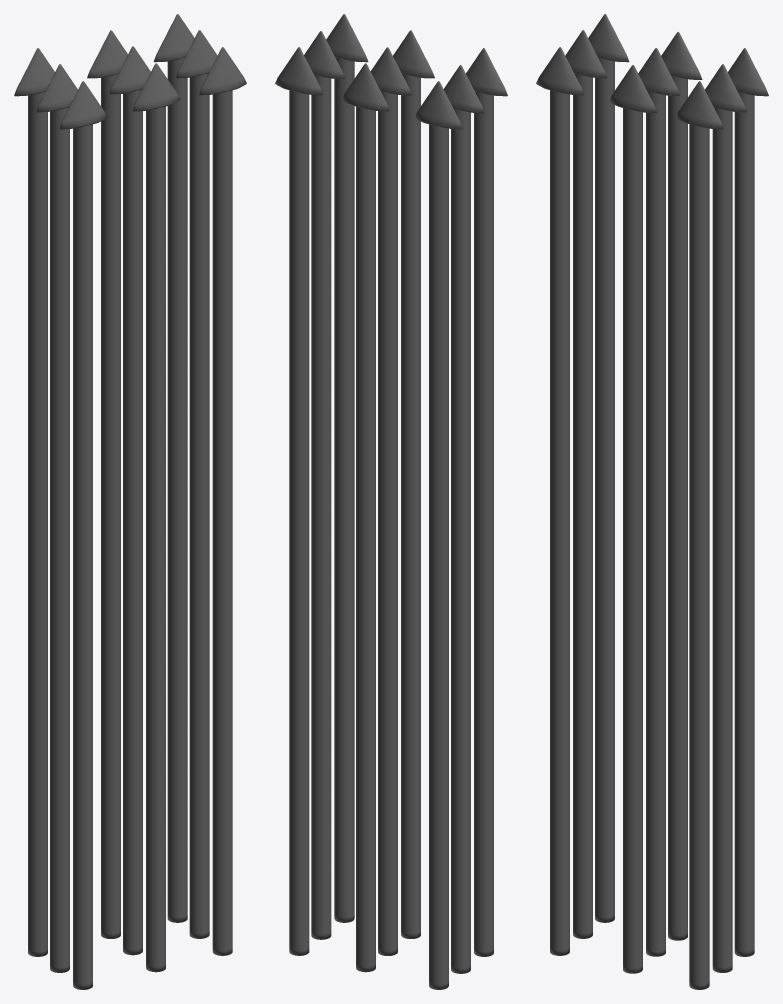
Rendered from floor spikes.fbx.
3 views of the same model, side by side, from view 1: azimuth 30°, elevation 25°; view 2: azimuth 150°, elevation 25°; view 3: azimuth 330°, elevation 25° (orthographic).
Visible parts, largest first — view 1: Floor Spike; view 2: Floor Spike; view 3: Floor Spike.
Boxes of the visible parts, bbox=[...] form: Floor Spike: bbox=[14, 14, 246, 989]; Floor Spike: bbox=[275, 14, 507, 989]; Floor Spike: bbox=[536, 14, 768, 989].
Bounding box in the file's own units: 81.64 × 376 × 42.23.
Materials: 1 (1 with a texture image).
